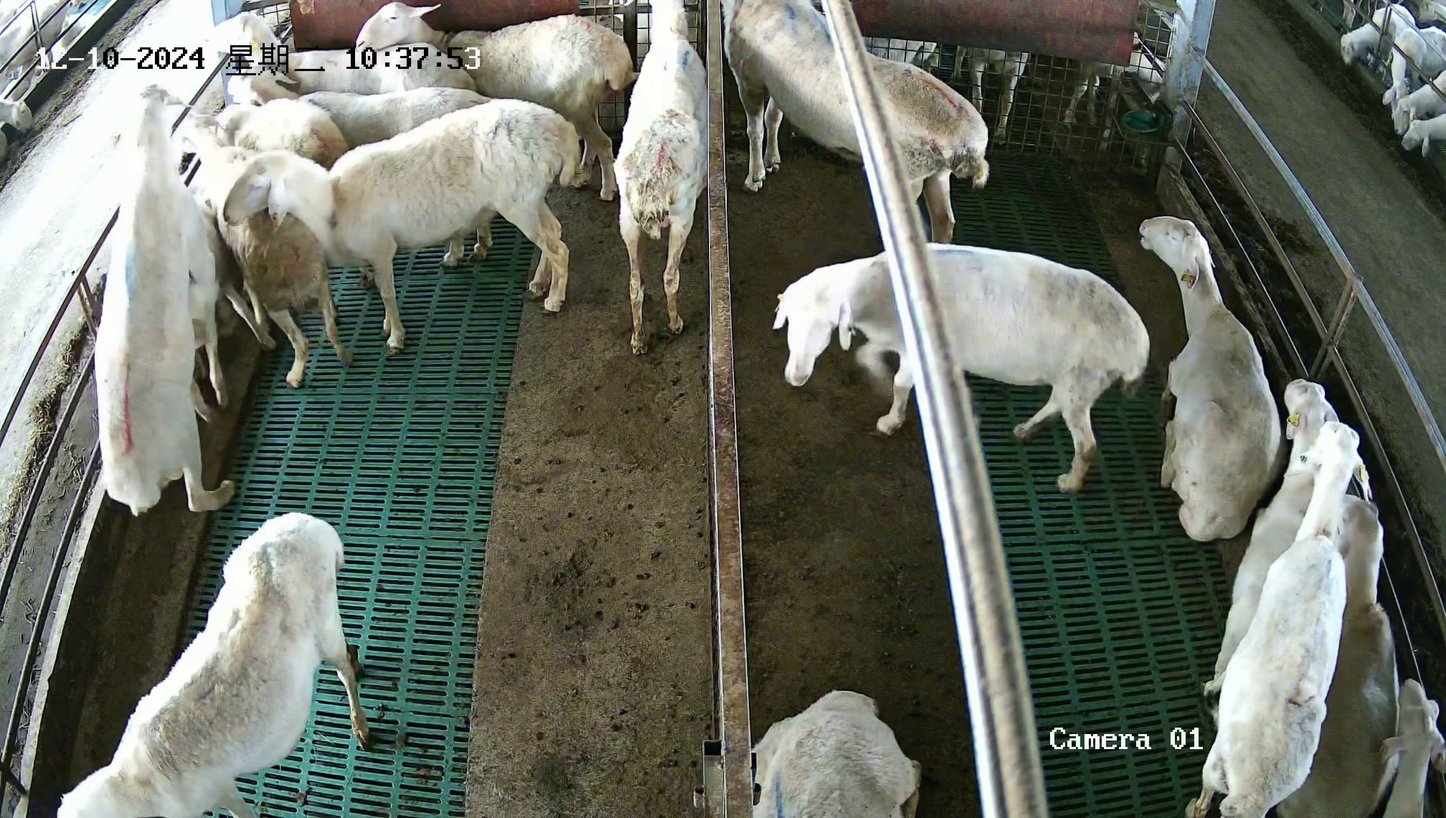Smounting: (88, 80, 240, 515)
mounted: (179, 184, 231, 424)
